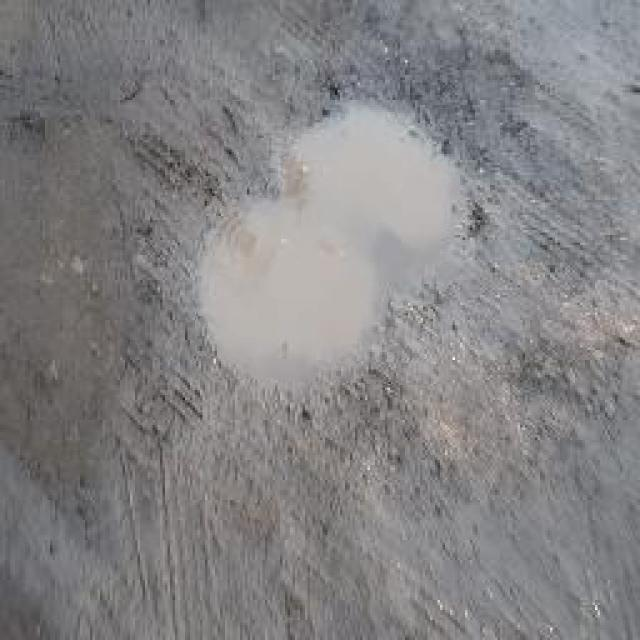puddle: (197, 103, 453, 385)
